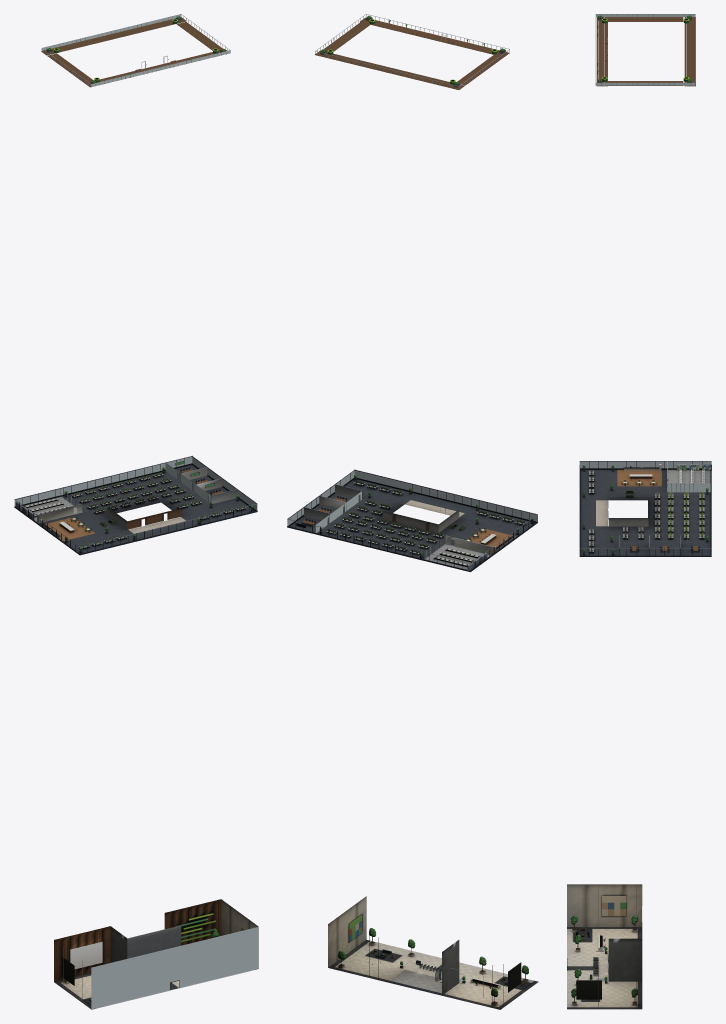
File: speedscan_int.glb
3 views of the same model, side by side, from view 1: azimuth 30°, elevation 25°; view 2: azimuth 150°, elevation 25°; view 3: azimuth 270°, elevation 25° (orthographic). The views are drawn at different scales.
Visible parts, largest first — view 1: in_office, in_lobby, in_glass_lobby, in_roof, in_glass_office, in_glass_roof; view 2: in_office, in_lobby, in_roof, in_glass_office; view 3: in_office, in_lobby, in_roof, in_glass_office, in_glass_roof.
Part boxes in pixels (box(x1,y1,x2,y2)): in_office: box(14, 456, 257, 555); in_lobby: box(54, 899, 258, 1009); in_glass_lobby: box(91, 927, 258, 1009); in_roof: box(41, 14, 230, 87); in_glass_office: box(14, 455, 257, 510); in_glass_roof: box(42, 14, 230, 86); in_office: box(287, 470, 537, 571); in_lobby: box(328, 896, 538, 1009); in_roof: box(315, 14, 509, 89); in_glass_office: box(287, 469, 537, 532); in_office: box(579, 461, 711, 556); in_lobby: box(567, 884, 642, 1009); in_roof: box(595, 14, 695, 86); in_glass_office: box(579, 461, 711, 491); in_glass_roof: box(596, 14, 695, 85).
Size of the model in its own units: 66 by 325 by 46.1.
